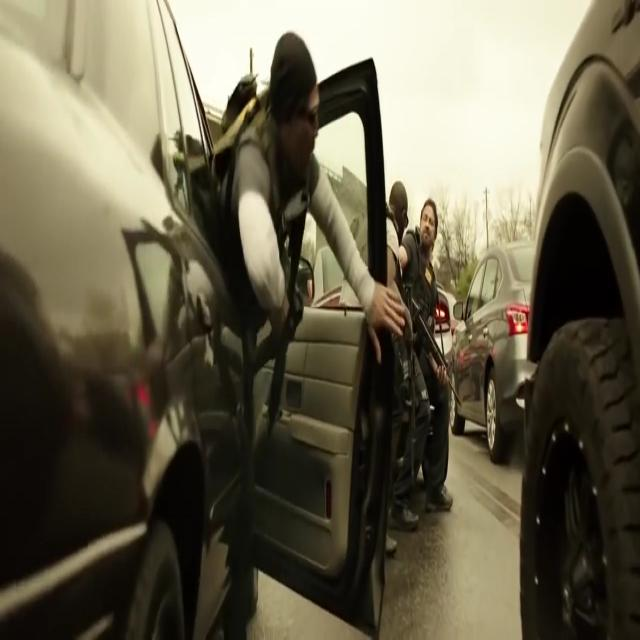Weapon: (365, 266, 457, 492), (269, 244, 323, 448)
